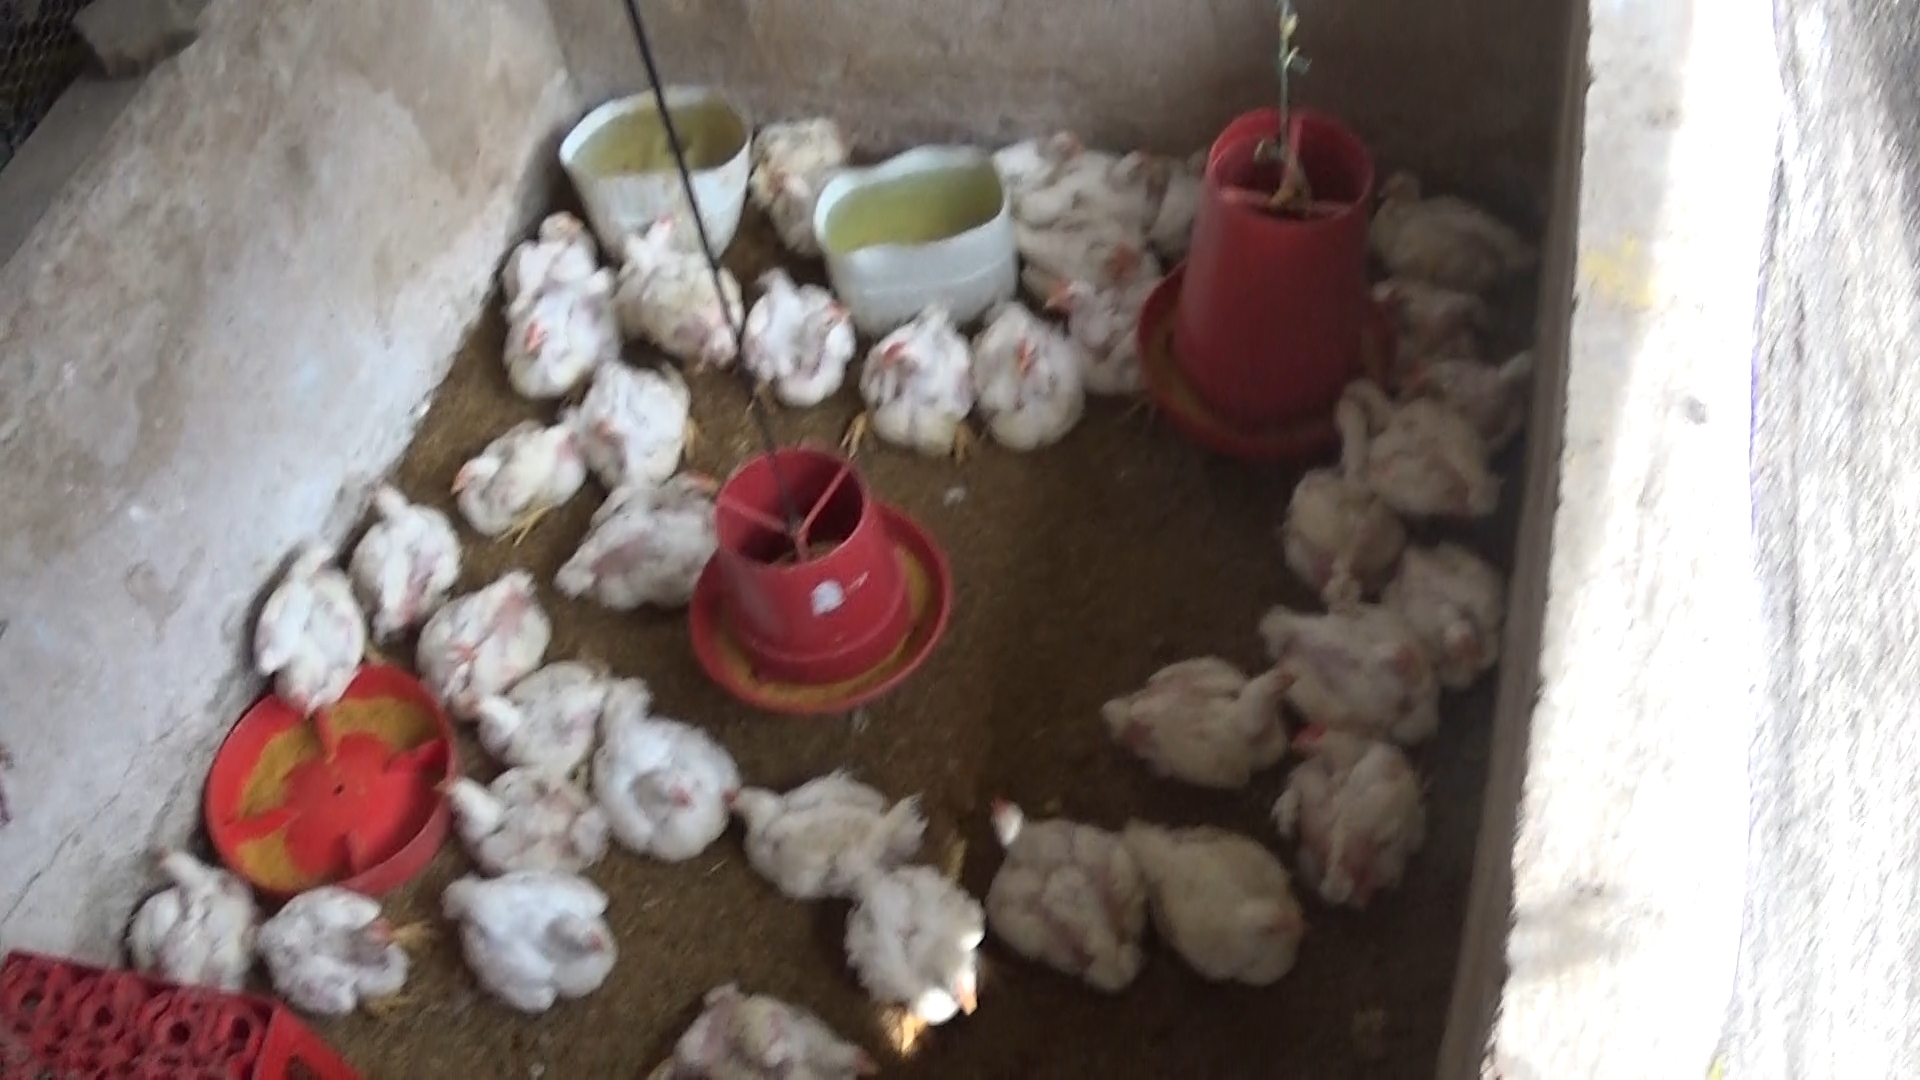Pollos: (967, 791, 1145, 1011), (705, 748, 934, 905), (1247, 576, 1440, 760), (1276, 702, 1425, 932), (1133, 822, 1316, 1006), (816, 839, 985, 1038), (1087, 651, 1286, 804), (417, 857, 616, 1009), (542, 469, 736, 622), (256, 876, 425, 1047), (1286, 386, 1402, 626), (1360, 371, 1522, 541), (109, 833, 265, 996), (591, 694, 745, 857), (442, 659, 625, 794), (240, 531, 372, 713), (845, 298, 978, 473), (1352, 179, 1545, 295), (440, 411, 587, 556), (433, 771, 621, 884), (415, 567, 553, 717), (1404, 533, 1531, 687), (1033, 251, 1166, 393), (971, 286, 1073, 465), (501, 262, 632, 404), (742, 252, 861, 400), (342, 477, 454, 622), (632, 232, 748, 371), (1007, 208, 1156, 313), (571, 353, 684, 479), (746, 123, 851, 247), (495, 198, 607, 301), (990, 116, 1087, 199), (1083, 124, 1158, 218)
